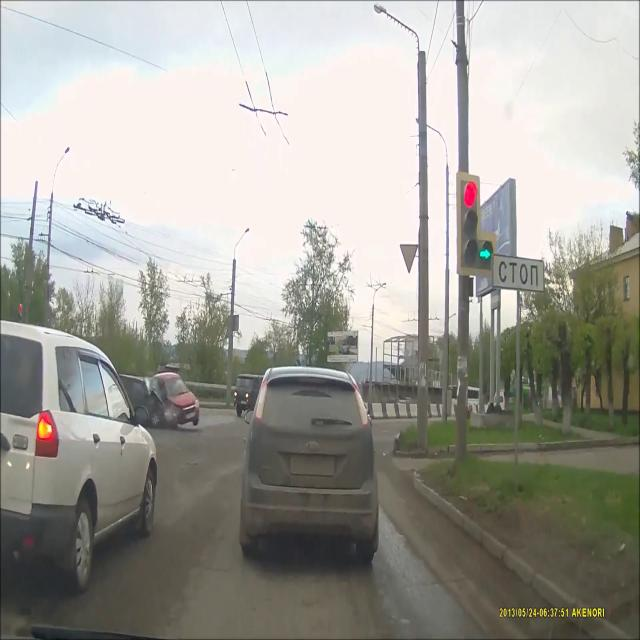accident: (131, 362, 213, 441)
